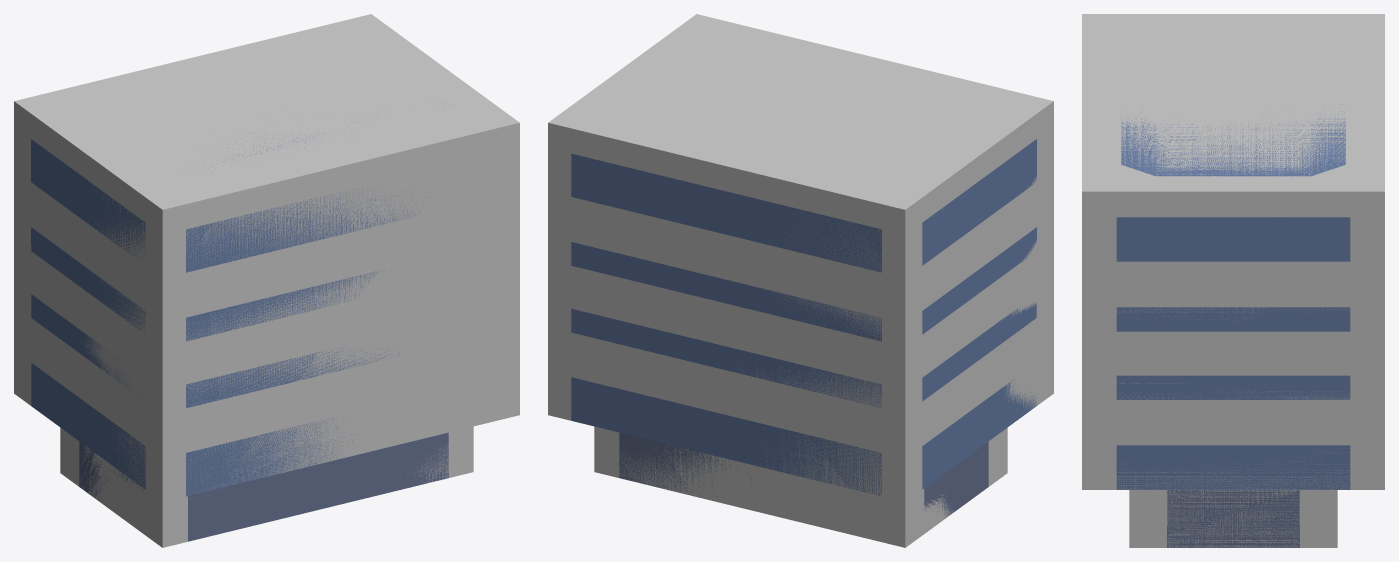
The model's file is SM_Building_18_Middle.fbx.
The picture shows the model from 3 angles, left to right: view 1: azimuth 30°, elevation 25°; view 2: azimuth 150°, elevation 25°; view 3: azimuth 270°, elevation 25°; orthographic projection.
Visible parts, largest first — view 1: SM_Building_18_Middle_ConvexHulls, SM_Building_18_Middle; view 2: SM_Building_18_Middle_ConvexHulls, SM_Building_18_Middle; view 3: SM_Building_18_Middle_ConvexHulls, SM_Building_18_Middle.
Boxes of the visible parts, bbox=[...] form: SM_Building_18_Middle_ConvexHulls: bbox=[14, 14, 519, 547]; SM_Building_18_Middle: bbox=[31, 102, 450, 541]; SM_Building_18_Middle_ConvexHulls: bbox=[548, 14, 1053, 547]; SM_Building_18_Middle: bbox=[571, 139, 1036, 516]; SM_Building_18_Middle_ConvexHulls: bbox=[1082, 14, 1384, 547]; SM_Building_18_Middle: bbox=[1116, 104, 1350, 547].
Bounding box in the file's own units: 726 × 523 × 700.
2 materials, 1 textured.
